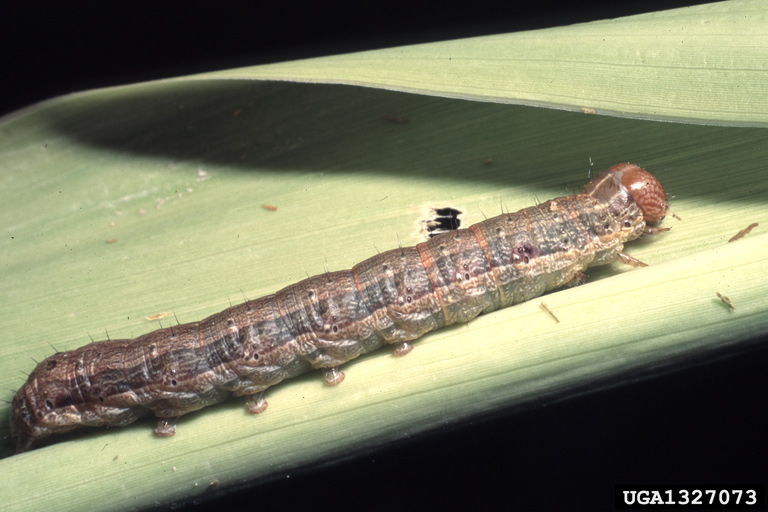Armyworm: (6, 123, 678, 496)
